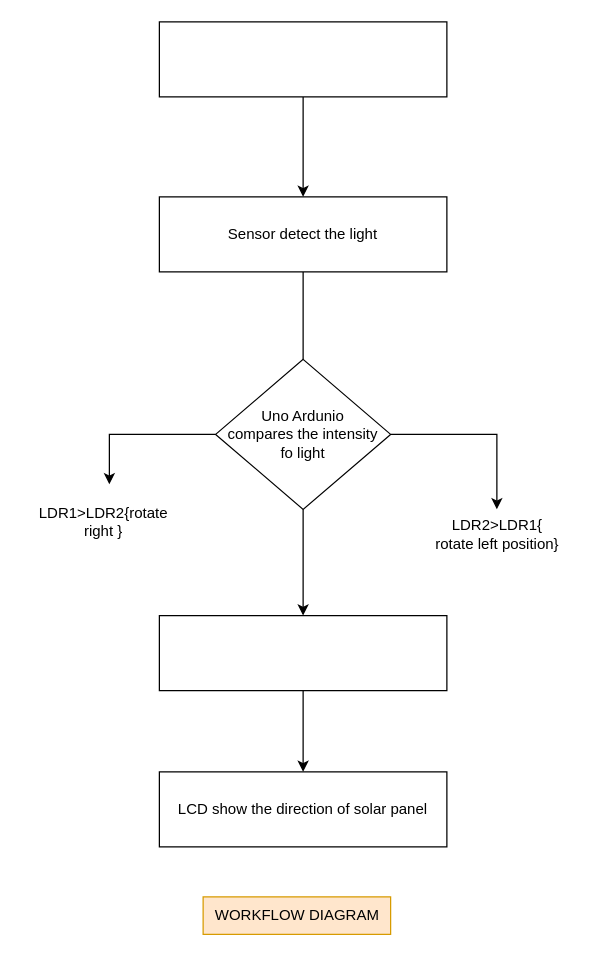
Some shapes in this 593 by 956 pixel diagram are drawn without their labels. Here are the shapes that lost their labels. From the top down, the centre of each, then its label:
the point at 302,59: Sunlight
the point at 302,652: Servomotor rotate solarpanel
